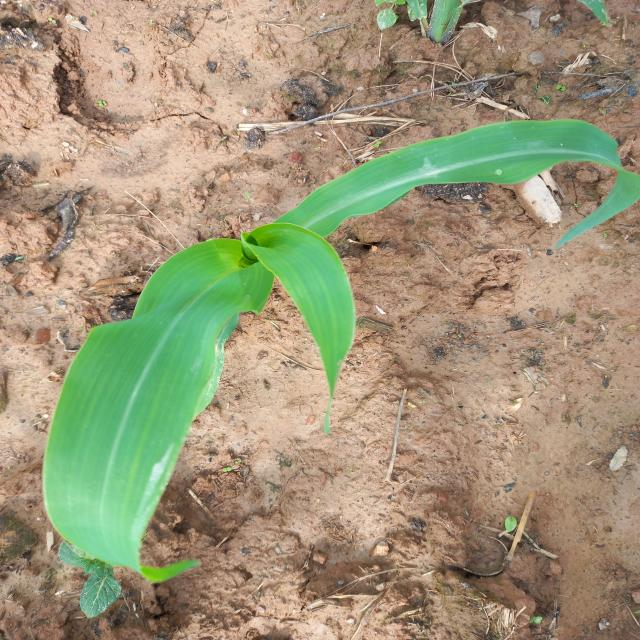maize: (0, 100, 612, 595)
weed: (352, 0, 640, 44), (20, 532, 178, 610), (482, 509, 540, 538), (514, 612, 553, 625)
